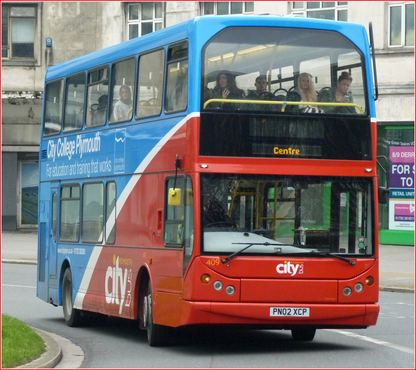bus: (37, 12, 389, 347)
